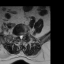CCS_normal: (20, 33, 22, 42)
LFS_normal: (23, 31, 25, 38)
LLS_normal: (22, 33, 23, 38)
RFS_severe_stenosis: (17, 33, 19, 38)
RLS_normal: (18, 33, 20, 38)
